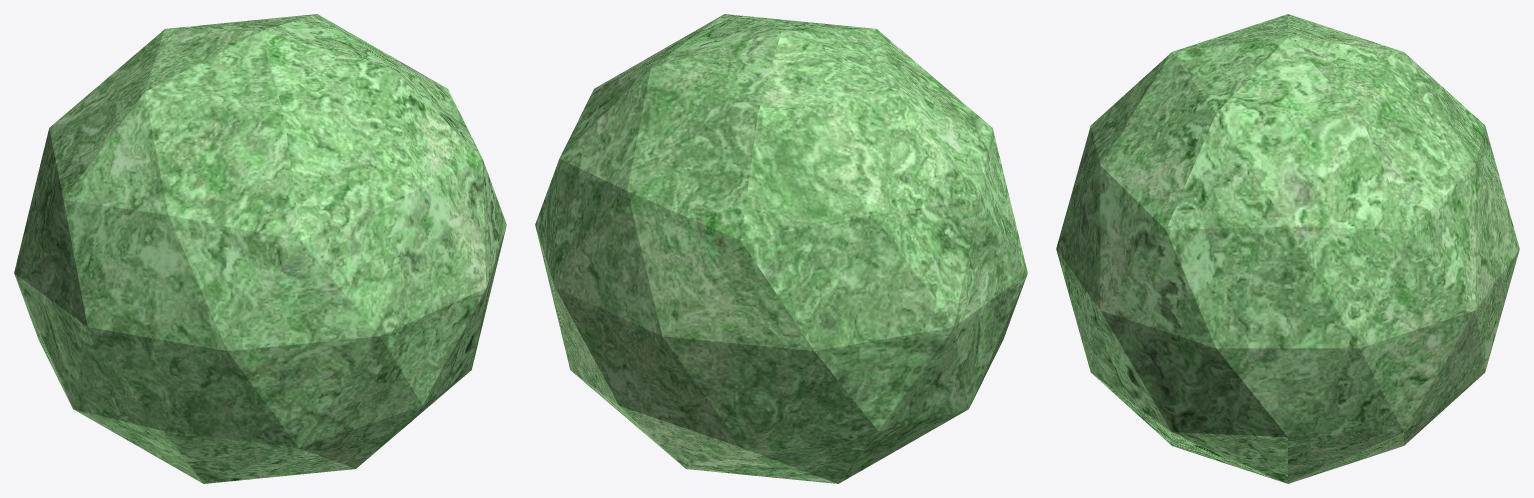
File: star.glb
3 views of the same model, side by side, from view 1: azimuth 30°, elevation 25°; view 2: azimuth 150°, elevation 25°; view 3: azimuth 270°, elevation 25° (orthographic). The views are drawn at different scales.
Visible parts, largest first — view 1: Cube; view 2: Cube; view 3: Cube.
Part boxes in pixels (box(x1,y1,x2,y2)): Cube: box(14, 14, 506, 483); Cube: box(535, 14, 1027, 483); Cube: box(1056, 14, 1519, 483).
Size of the model in its own units: 1.97 by 1.95 by 1.94.
1 material, 1 textured.
